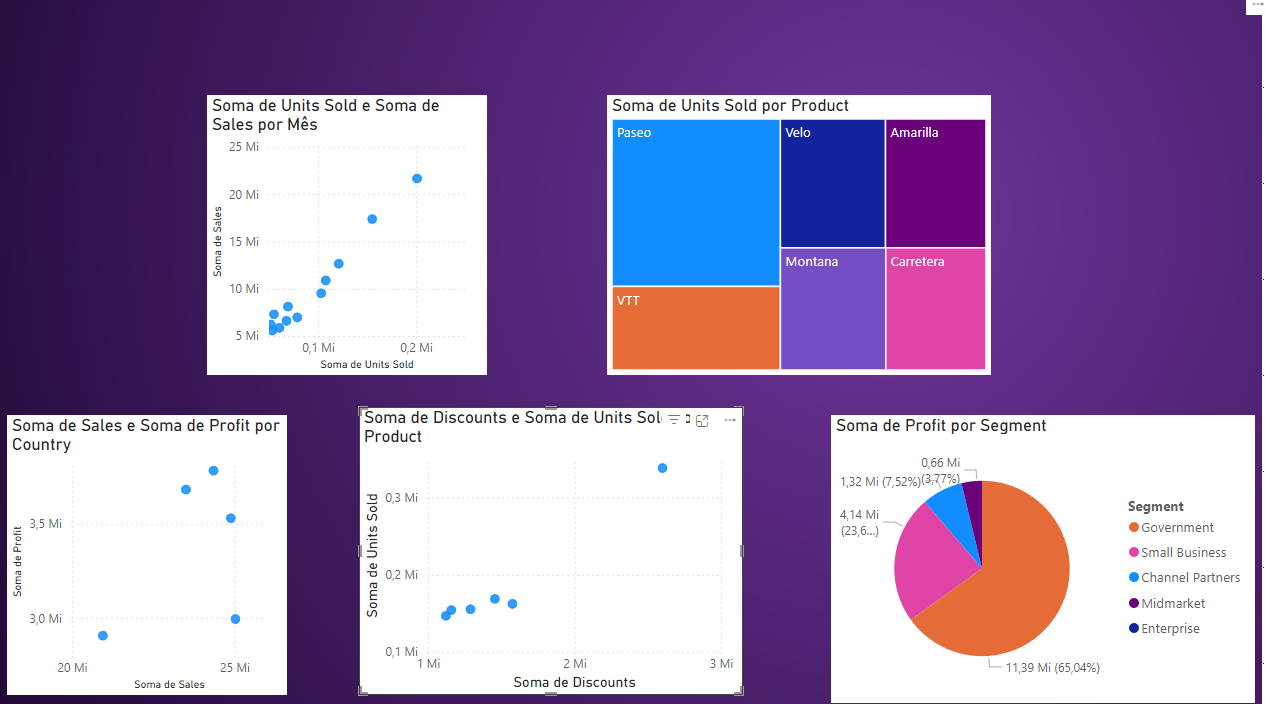

What the dashboard file says about the page in this screenshot:
{"tool":"powerbi","page":{"name":"Página 3","canvas":[1280,720],"ordinal":4},"visuals":[{"type":"image","box":[0,0,1280,720],"z":0},{"type":"shape","box":[0,0,624,136],"z":500},{"type":"image","box":[464,0,176,184],"z":1000},{"type":"shape","box":[32,104,648,584],"z":1500},{"type":"shape","box":[744,72,480,616],"z":1750},{"type":"scatterChart","title":"Vendas x unidades vendidas","fields":{"X":["Sum(financials.Units Sold)"],"Y":["Sum(financials.Sales)"],"Category":["financials.Date.Variation.Hierarquia de datas.Mês"]},"box":[32,112,328,296],"z":2000},{"type":"scatterChart","title":"Vendas e Lucro X Pais","fields":{"Category":["financials.Country"],"X":["Sum(financials.Sales)"],"Y":["Sum(financials.Profit)"]},"box":[32,408,648,280],"z":3000},{"type":"treemap","title":"Unidades Vendidas X Produto","fields":{"Group":["financials.Product"],"Values":["Sum(financials.Units Sold)"]},"box":[744,72,480,320],"z":4000},{"type":"pieChart","title":"Lucro x Segmento","fields":{"Category":["financials.Segment"],"Y":["Sum(financials.Profit)"]},"box":[744,408,480,280],"z":5000},{"type":"scatterChart","title":"Desconto e Unidades Vnedidas X Produto","fields":{"Category":["financials.Product"],"X":["Sum(financials.Discounts)"],"Y":["Sum(financials.Units Sold)"]},"box":[360,112,320,296],"z":6000},{"type":"textbox","box":[24,16,536,88],"z":7000},{"type":"image","box":[1176,0,104,72],"z":7001},{"type":"actionButton","box":[1176,0,104,72],"z":7002}]}

Visuals, with their boxes in screenshot pixels (x1, y1, x2, y2), scaled from the page's 1280x720 canvas onto the 1265x704 screenshot:
image: (0,0,1264,703)
shape: (0,0,617,133)
image: (459,0,632,180)
shape: (32,102,672,673)
shape: (735,70,1210,673)
"Vendas x unidades vendidas" scatterChart: (32,110,356,399)
"Vendas e Lucro X Pais" scatterChart: (32,399,672,673)
"Unidades Vendidas X Produto" treemap: (735,70,1210,383)
"Lucro x Segmento" pieChart: (735,399,1210,673)
"Desconto e Unidades Vnedidas X Produto" scatterChart: (356,110,672,399)
textbox: (24,16,553,102)
image: (1162,0,1264,70)
actionButton: (1162,0,1264,70)
